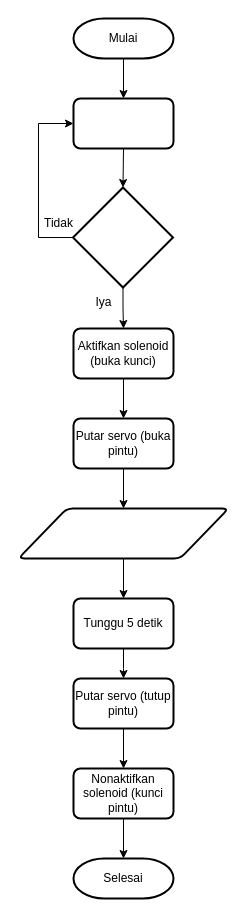
Image size: 246x916. Some labels were removed from this diagram. The shapes that lost their labels are listed below. From the top down, each one's box as (x1, y1, x2, y2) in pixels, then its label:
(72, 97, 174, 149): Penguni dalam rumah
(72, 186, 174, 288): Apakah tombol ditekan?
(17, 507, 229, 559): Kirim pesan Telegram : " Ada orang keluar"
